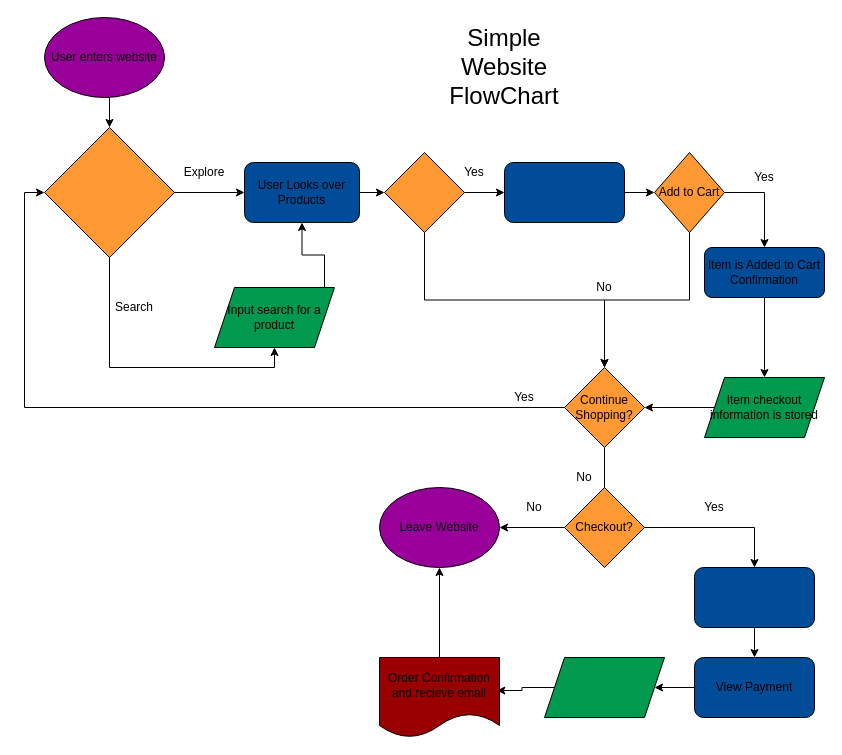
The diagram is 842 pixels wide and 755 high, and some of its shapes have lost their labels. Each missing label, with the centre of its shape:
"Input Payment Information" goes at (604,687).
"Look at specfic product?" goes at (424,192).
"Search for product or explore products on homepage" goes at (109,192).
"Specific Product WebPage opens" goes at (564,192).
"View Cart" goes at (754,597).
